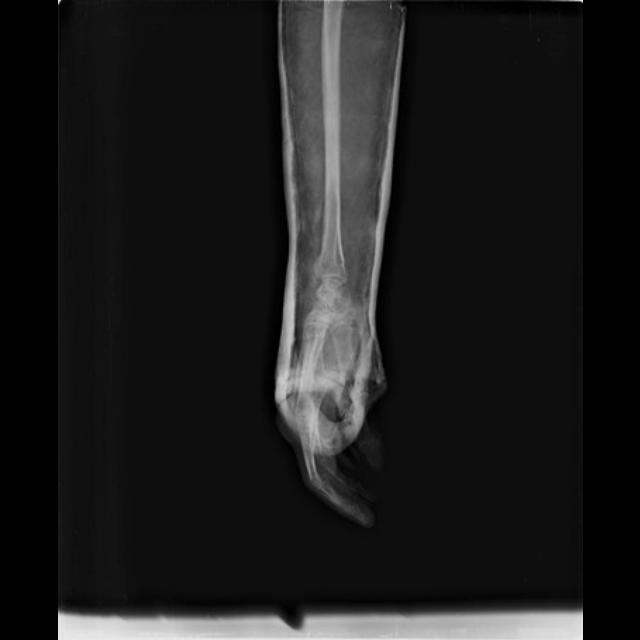Fracture: (306, 249, 347, 283)
